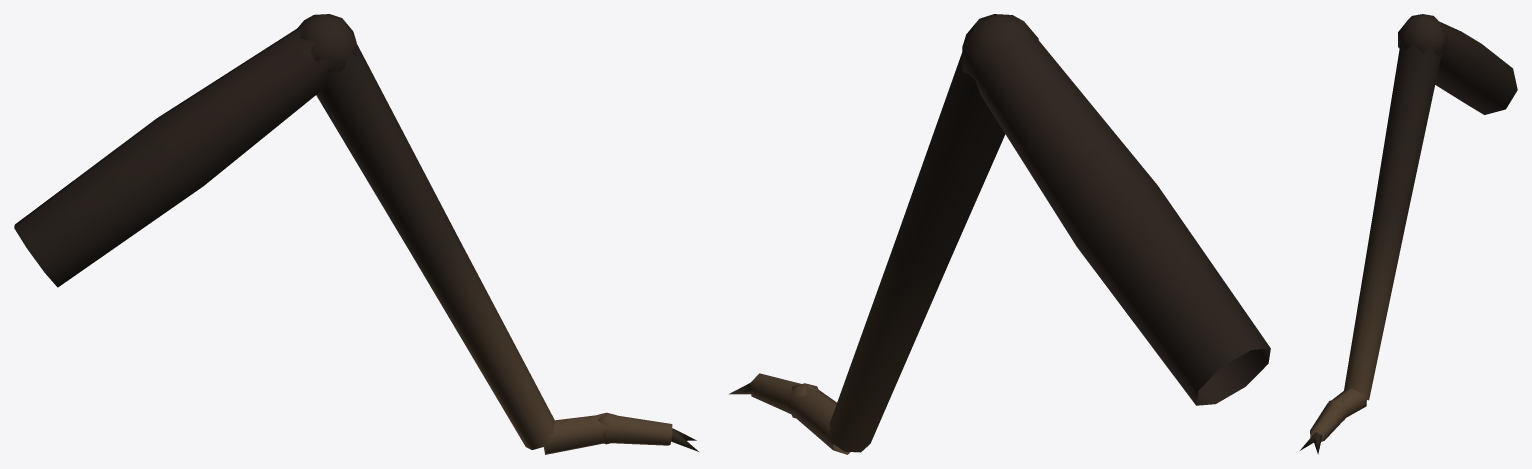
File: Spider_Leg3.fbx
3 renders of one model, left to right at view 1: azimuth 30°, elevation 25°; view 2: azimuth 150°, elevation 25°; view 3: azimuth 270°, elevation 25°, orthographic. The views are drawn at different scales.
Visible parts, largest first — view 1: Spider_Leg3; view 2: Spider_Leg3; view 3: Spider_Leg3.
Part boxes in pixels (bbox=[...]): Spider_Leg3: bbox=[14, 14, 698, 454]; Spider_Leg3: bbox=[729, 14, 1270, 454]; Spider_Leg3: bbox=[1300, 14, 1517, 454].
Bounding box in the file's own units: 0.3259 × 0.2467 × 0.1474.
